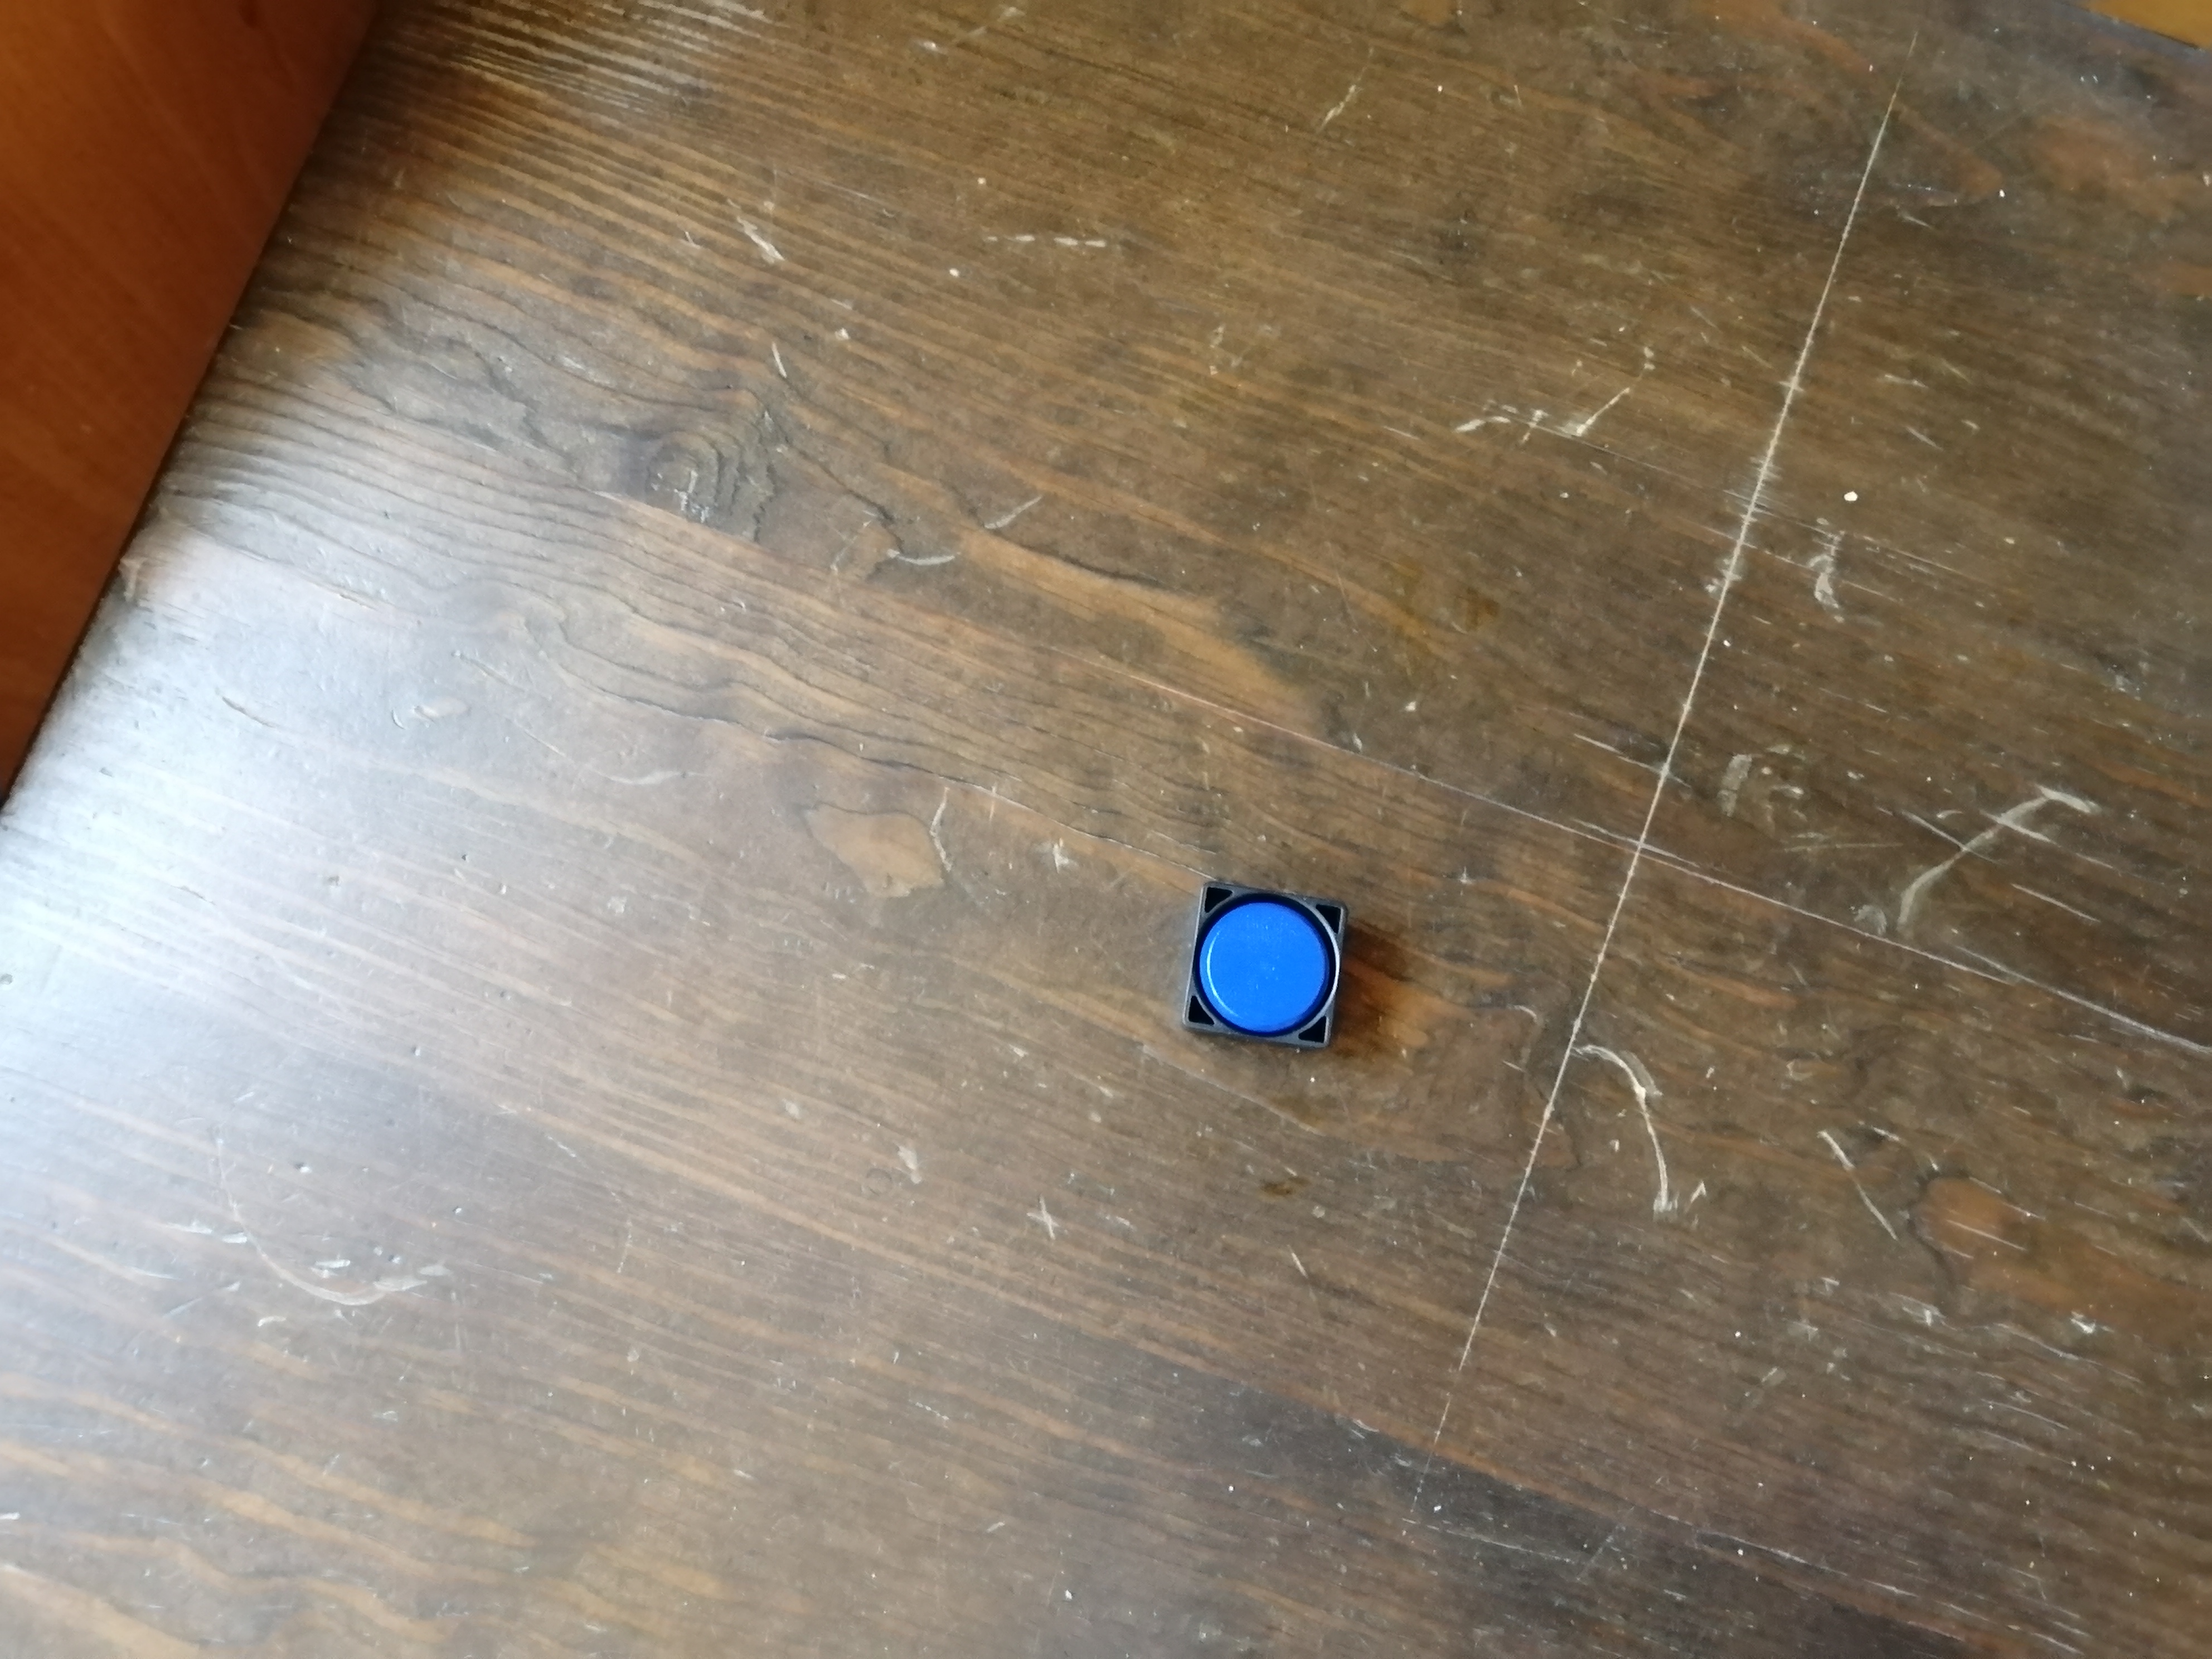Behaelter: (1181, 878, 1353, 1056)
WerkStueck: (1202, 901, 1329, 1037)
